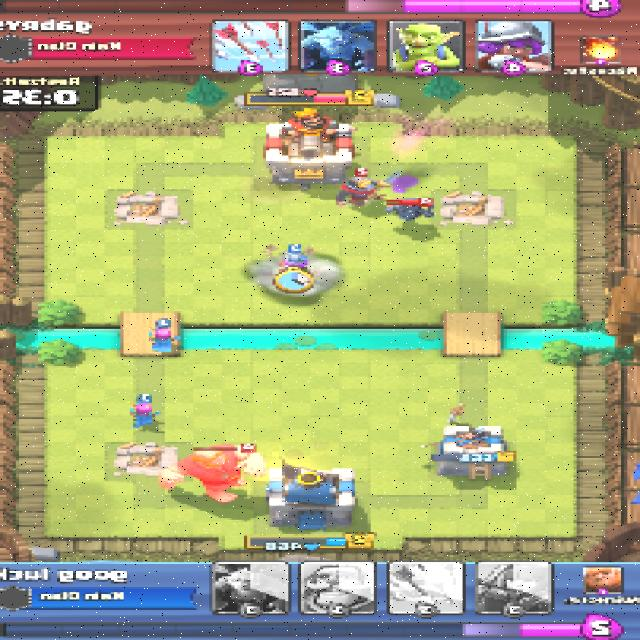Enemy-Giant: (160, 445, 266, 502)
Enemy-Knight: (336, 169, 400, 206)
Enemy-MiniPEKKA: (385, 200, 438, 218)
Player-Archer: (144, 325, 180, 353), (129, 403, 164, 426)
Player-Musketeer: (275, 250, 315, 280)
